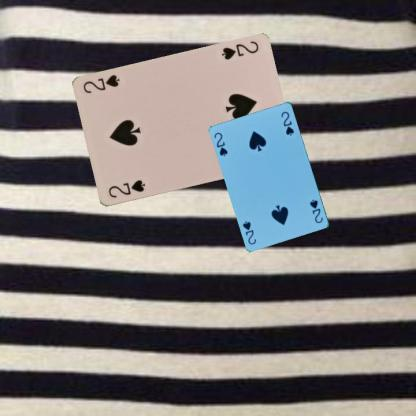2s: (218, 39, 260, 62), (106, 178, 146, 200), (212, 130, 229, 158), (308, 197, 324, 225)
